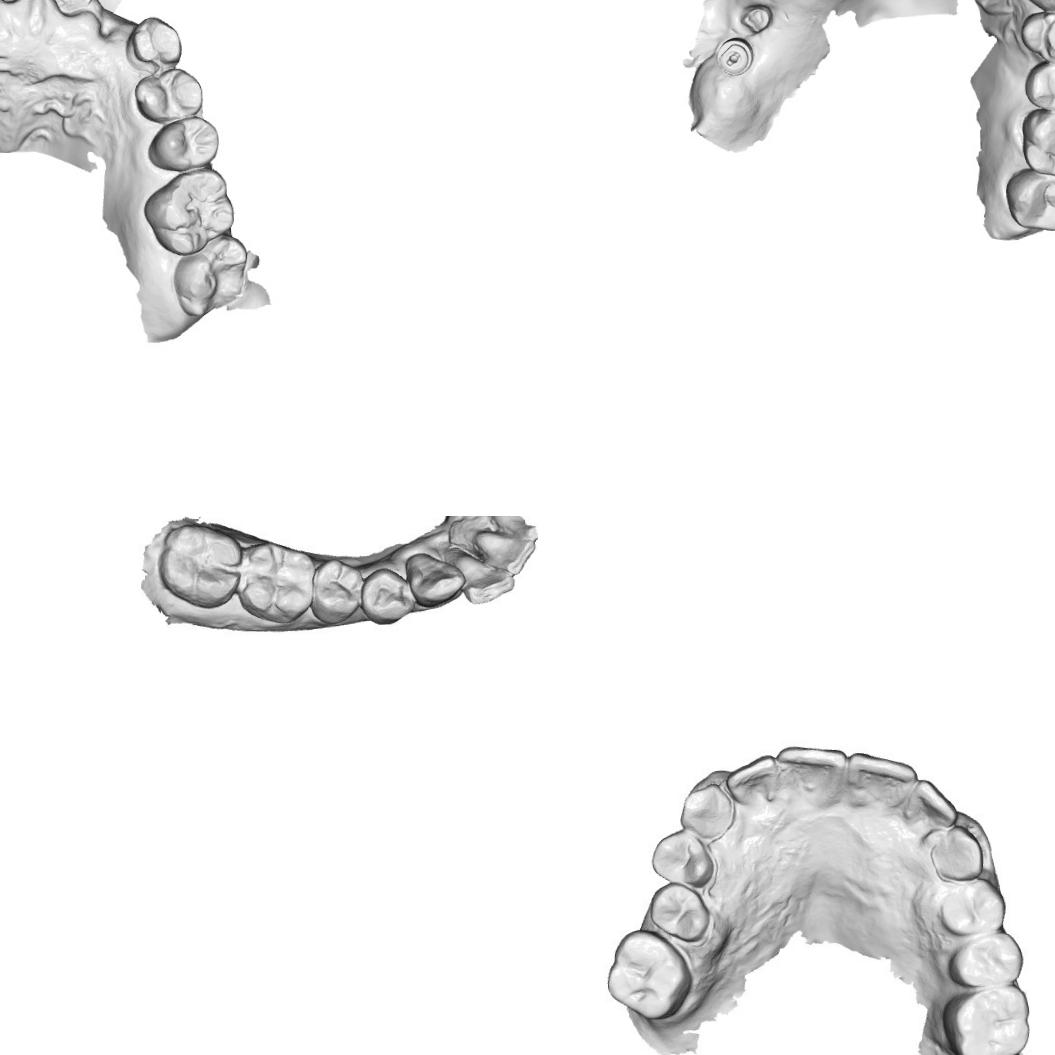canine: (403, 550, 467, 610), (124, 13, 183, 75), (928, 822, 986, 884), (677, 783, 736, 843)
implant_minus: (714, 38, 754, 76)
incisor: (775, 742, 849, 814), (845, 748, 919, 816), (454, 548, 516, 608), (470, 525, 538, 578), (906, 776, 960, 838), (730, 754, 778, 816)
molar: (139, 168, 238, 258), (604, 927, 694, 1023), (155, 519, 246, 610), (170, 231, 256, 320), (235, 537, 316, 627), (938, 984, 1034, 1055), (1002, 166, 1055, 232), (1020, 106, 1055, 176)
premolar: (946, 932, 1028, 992), (145, 114, 222, 174), (938, 875, 1010, 938), (132, 65, 207, 125), (648, 826, 716, 890), (647, 880, 712, 945), (308, 554, 366, 626), (358, 566, 415, 628), (1018, 5, 1055, 61), (1021, 60, 1055, 110)
